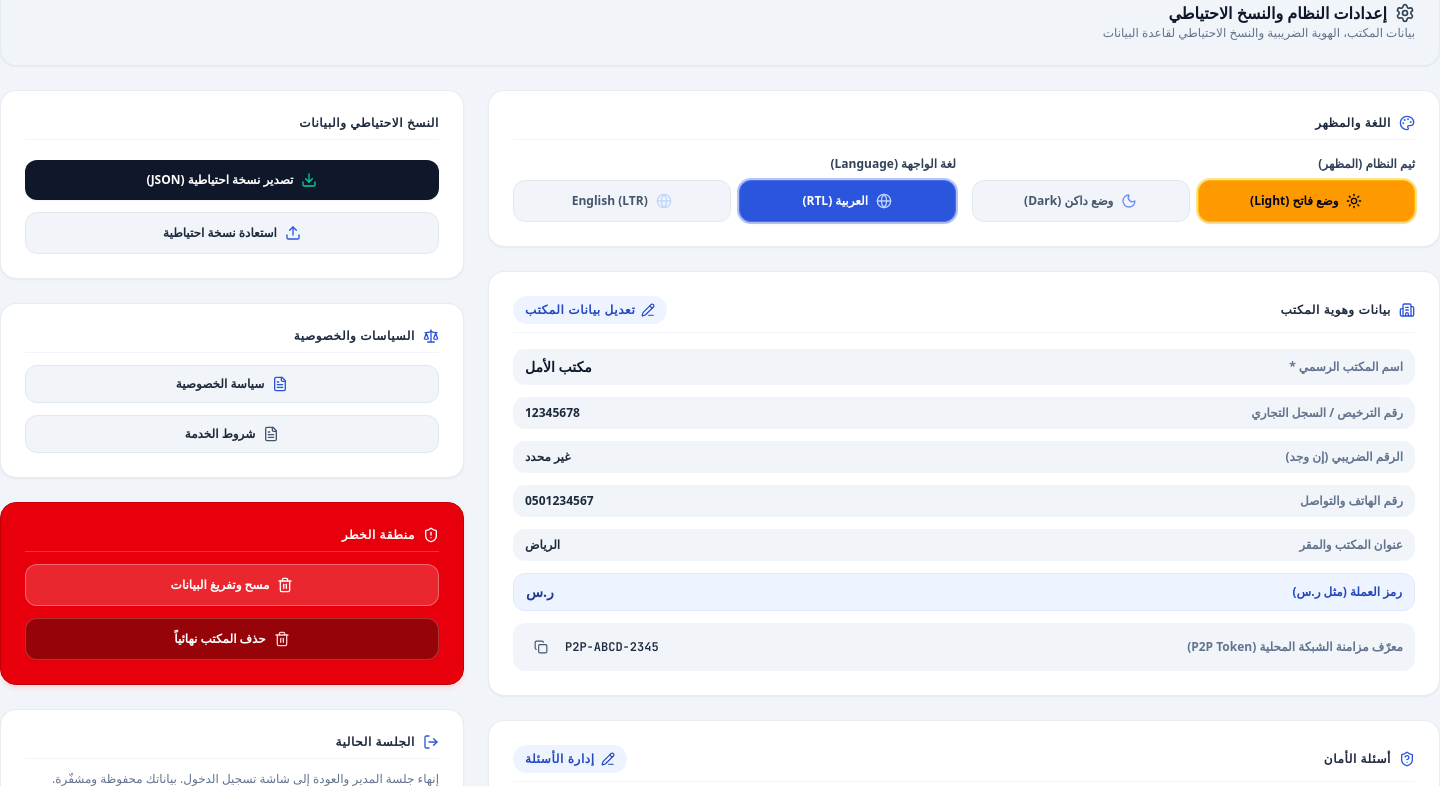
Test case: SettingsManager › rejects an invalid office name on submit with a validation toast
Click the button "تعديل بيانات المكتب" at coordinates (590, 310), box [513, 296, 667, 324]
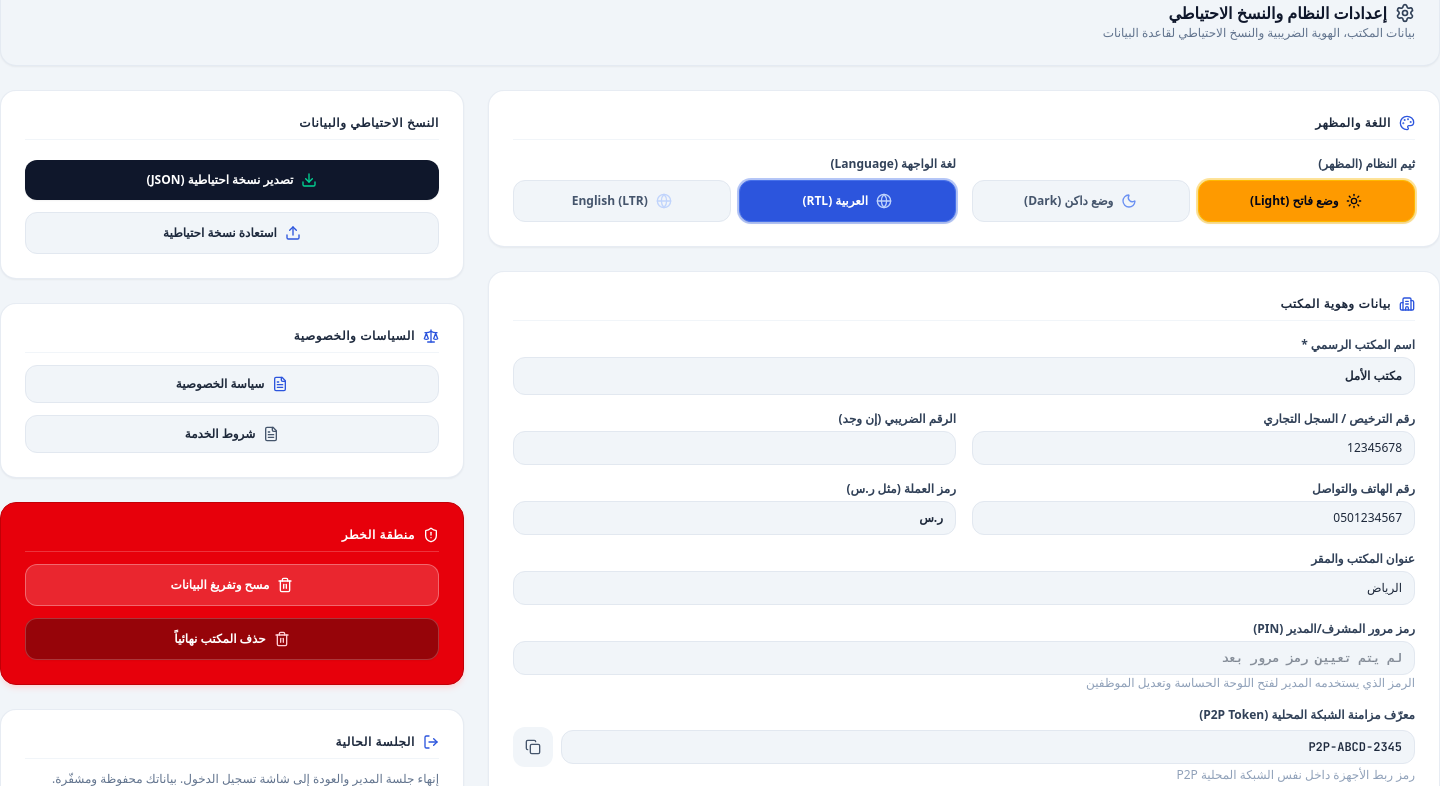
Replace the text in the field showing "مكتب الأمل" below "اسم المكتب الرسمي *" with "م" at coordinates (964, 376), box [513, 357, 1415, 395]
(page scrolled)
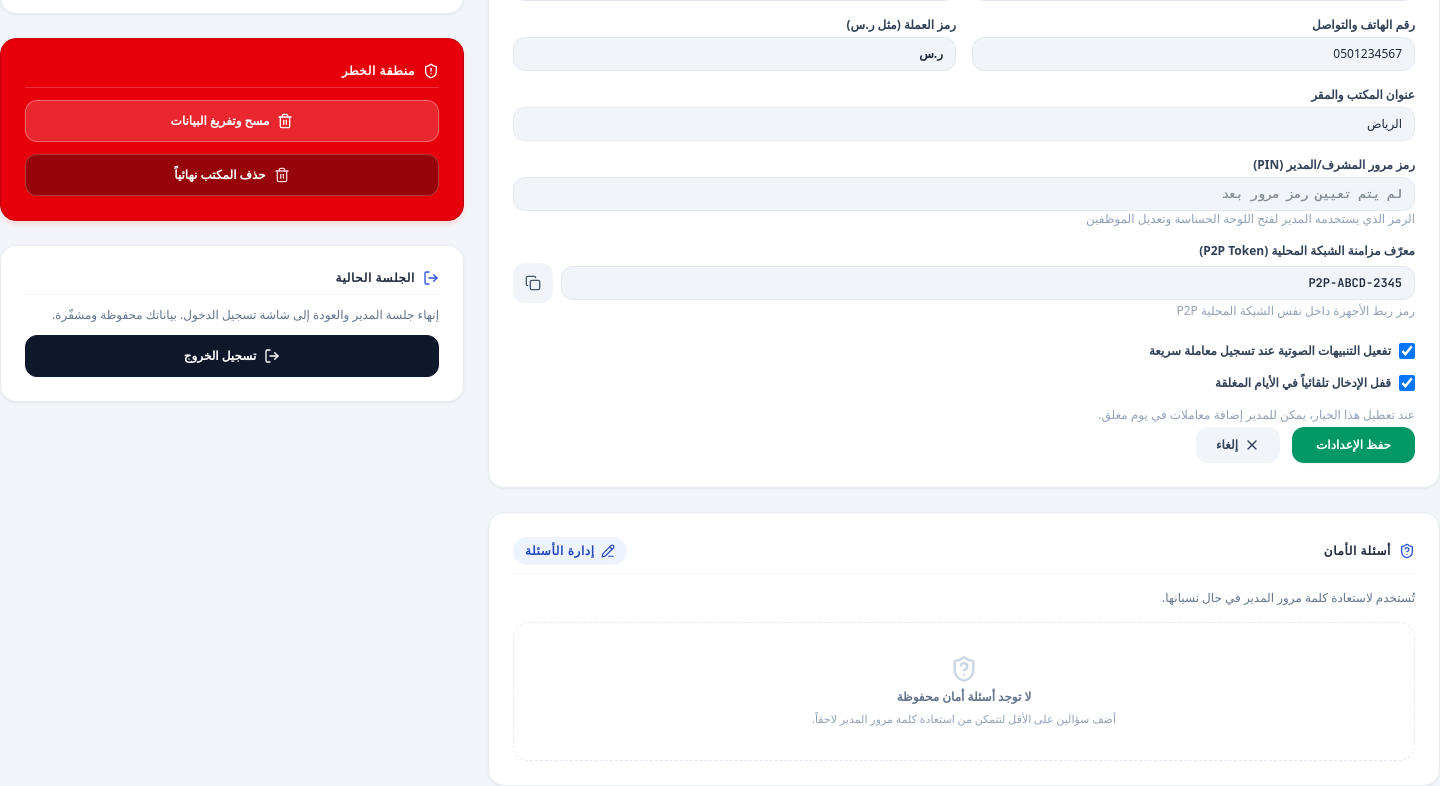
Click the button "حفظ الإعدادات" at coordinates (1354, 445), box [1292, 427, 1415, 463]
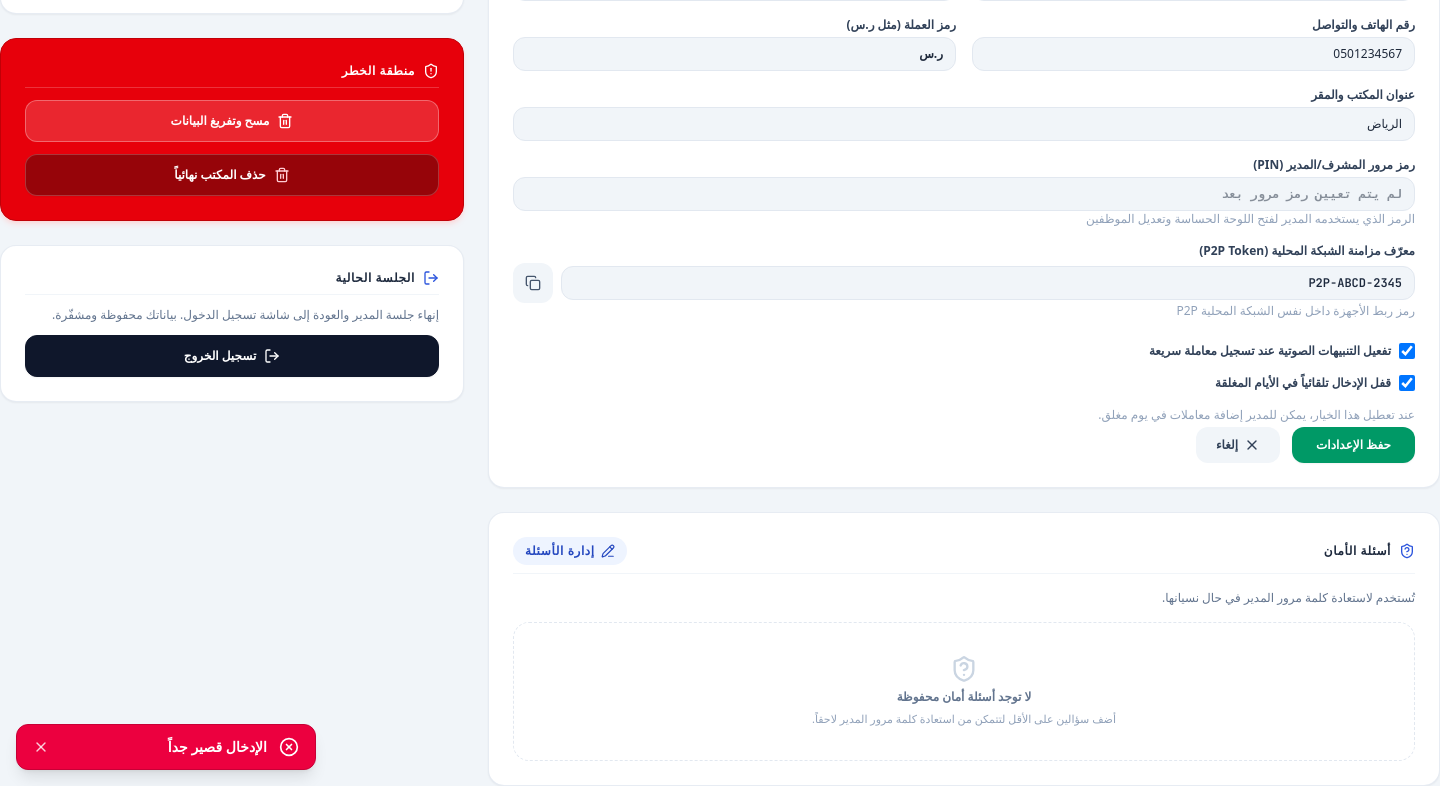
Expected: the text "الإدخال قصير جداً" is shown, [168, 737, 267, 756]
